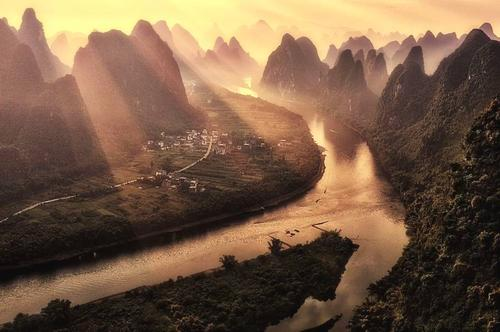mountain: (369, 46, 497, 275), (109, 233, 356, 329)
